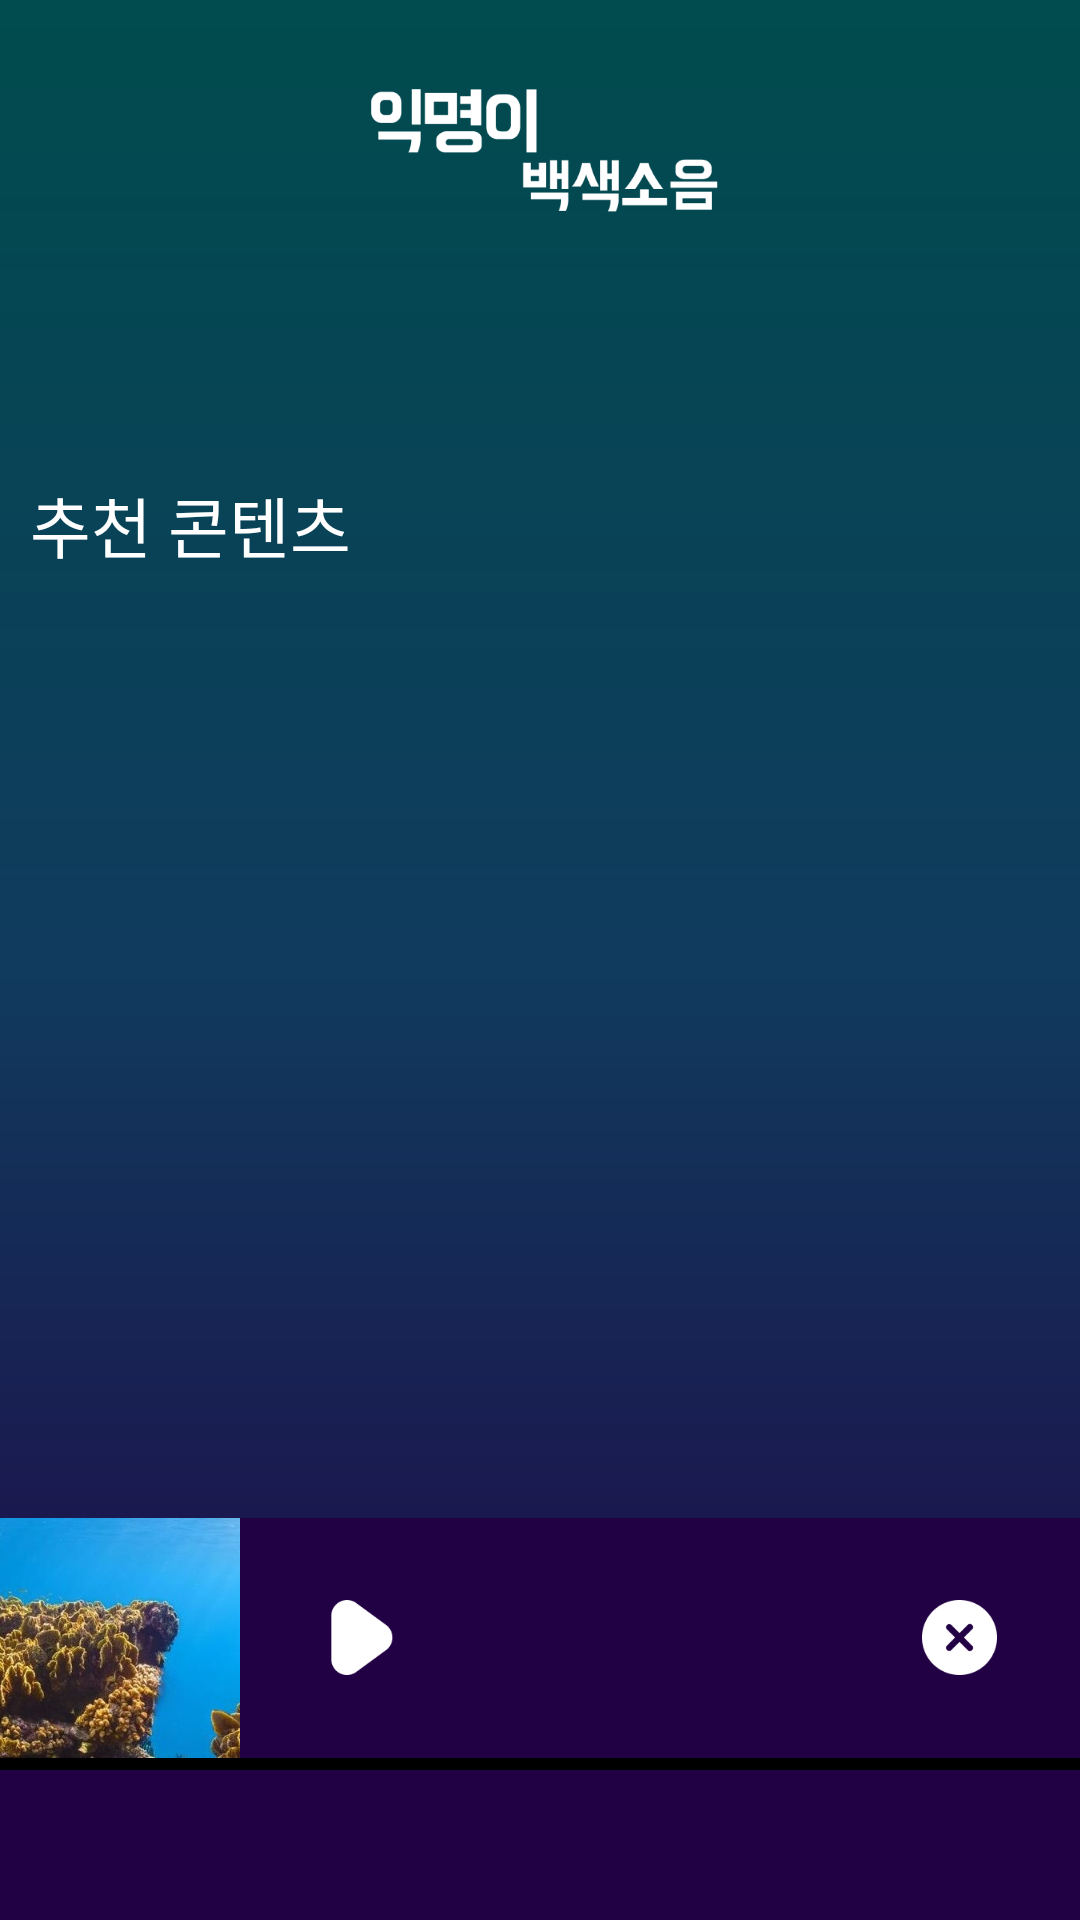

Icon bounding boxes for this 1080px×1920px phone screenshot, format (x1, y1, x2, y2):
close: (922, 1600, 997, 1675)
play: (331, 1600, 393, 1675)
